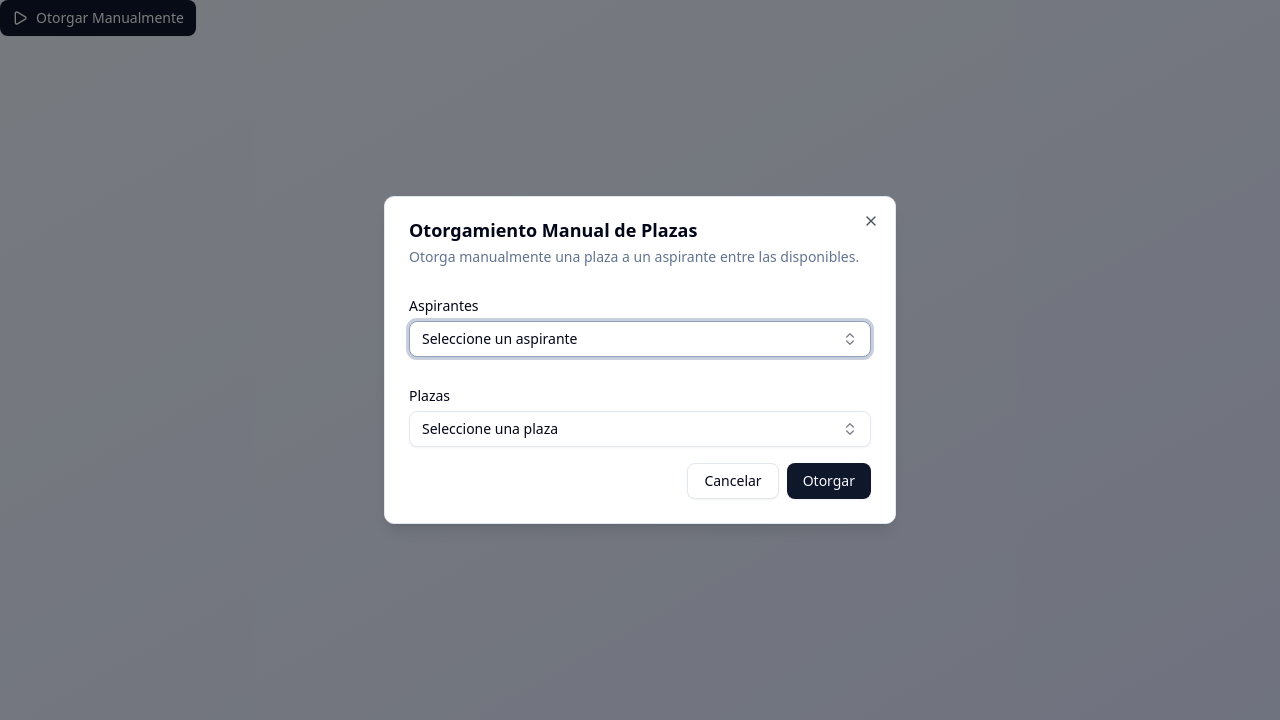
it: AddManualAllocation › muestra plazas disponibles en el selector
Click the dropdown labelled "Seleccione una plaza".
click(490, 428)  # box [409, 411, 871, 447]
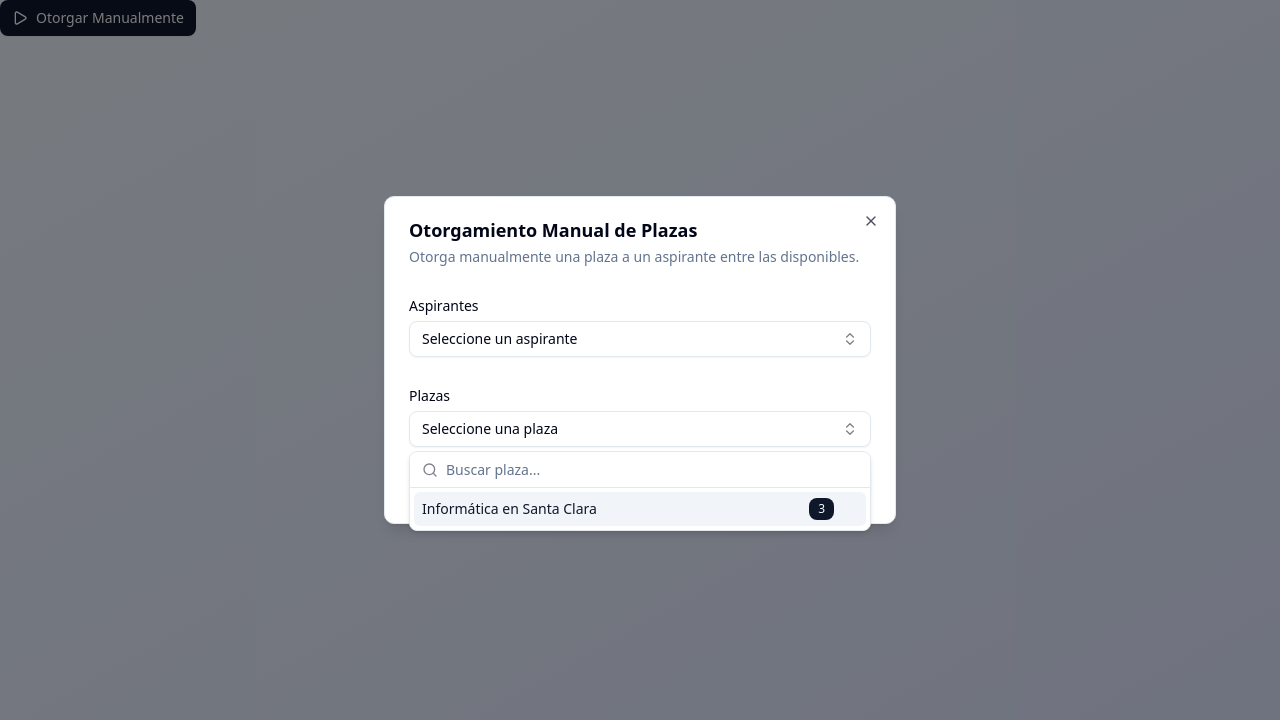
Check: the text "Informática en Santa Clara" is shown, box [422, 499, 597, 519]
